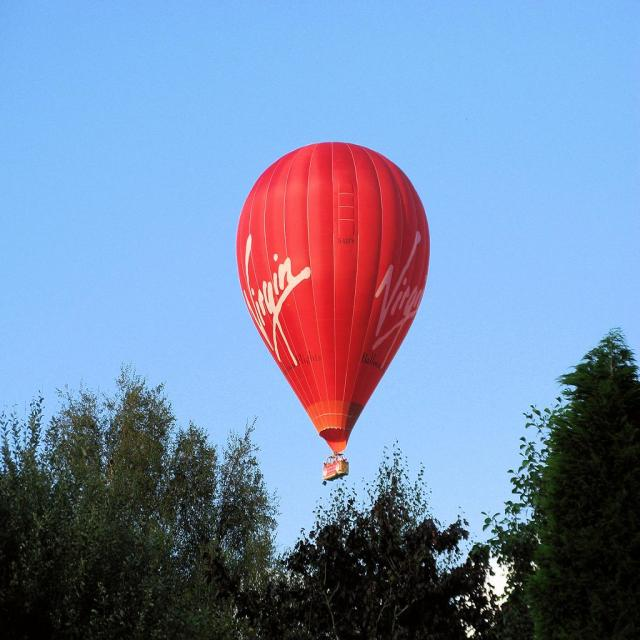balloon: (236, 141, 431, 485)
